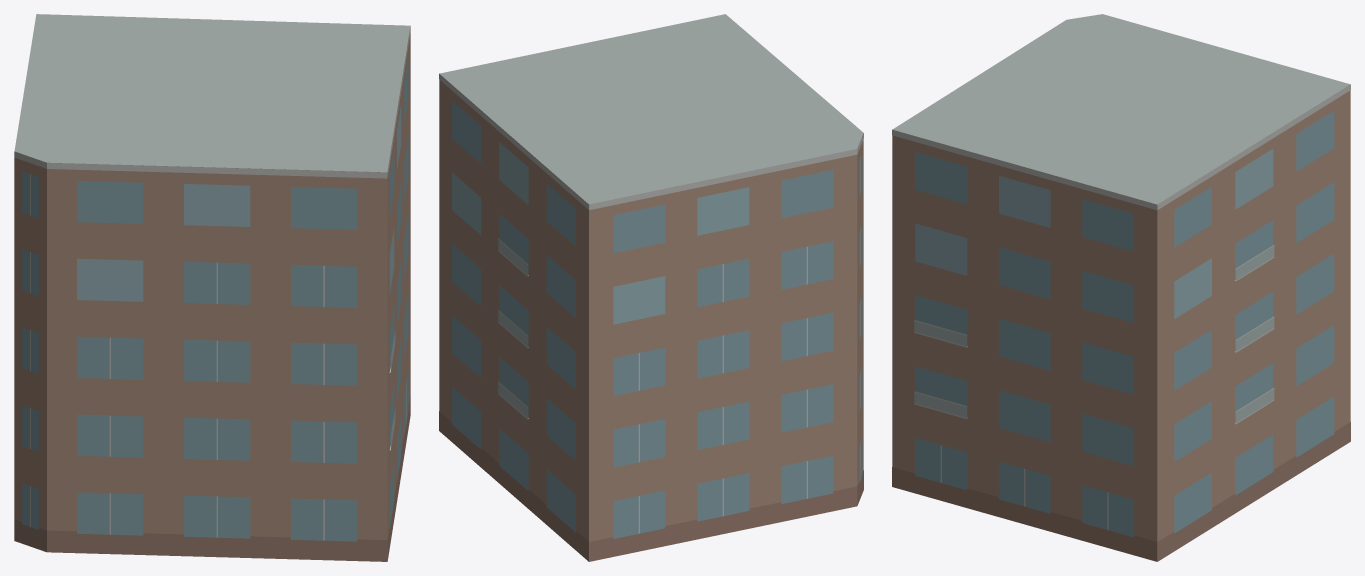
Rendered from survey-upis-32994065.glb.
3 views of the same model, side by side, from view 1: azimuth 30°, elevation 25°; view 2: azimuth 150°, elevation 25°; view 3: azimuth 270°, elevation 25° (orthographic). The views are drawn at different scales.
Parts seen in each view (by area): view 1: survey-upis-32994065.tmp; view 2: survey-upis-32994065.tmp; view 3: survey-upis-32994065.tmp.
Boxes of the visible parts, bbox=[...] form: survey-upis-32994065.tmp: bbox=[14, 14, 410, 561]; survey-upis-32994065.tmp: bbox=[439, 14, 863, 561]; survey-upis-32994065.tmp: bbox=[892, 14, 1350, 561].
Size of the model in its own units: 17.46 by 15.25 by 17.75.
